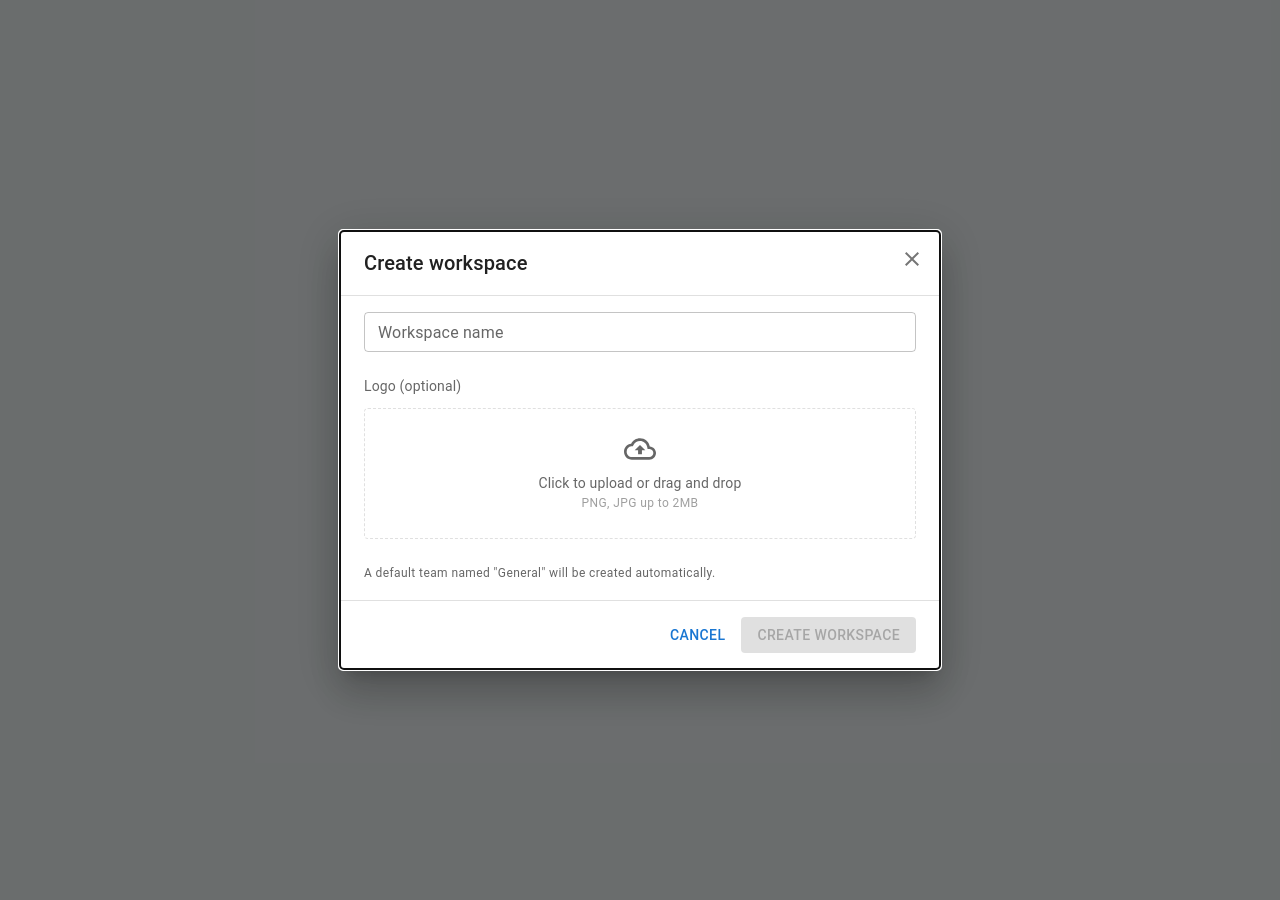
Test case: CreateWorkspaceDialog › disables submit until the name is at least 2 characters
The width and height of the screenshot is (1280, 900).
Expected: the button "Create workspace" is disabled, [741,617,916,653]
Type "A" into the field labelled "Workspace name" at (640, 332), box [364,312,916,352]
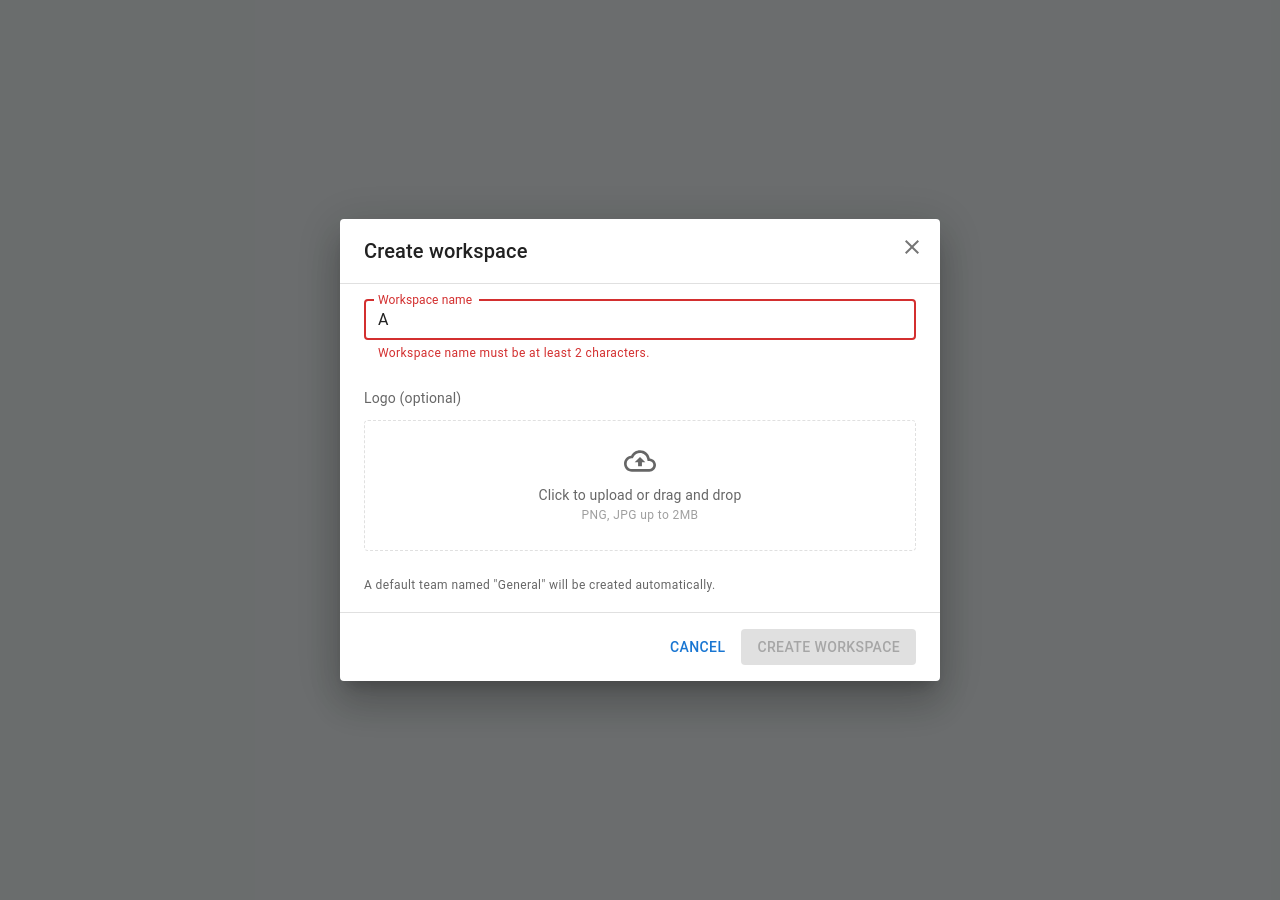
Expected: the button "Create workspace" is disabled, [741,629,916,665]
Type "cme" into the field labelled "Workspace name" at (640, 320), box [364,300,916,340]
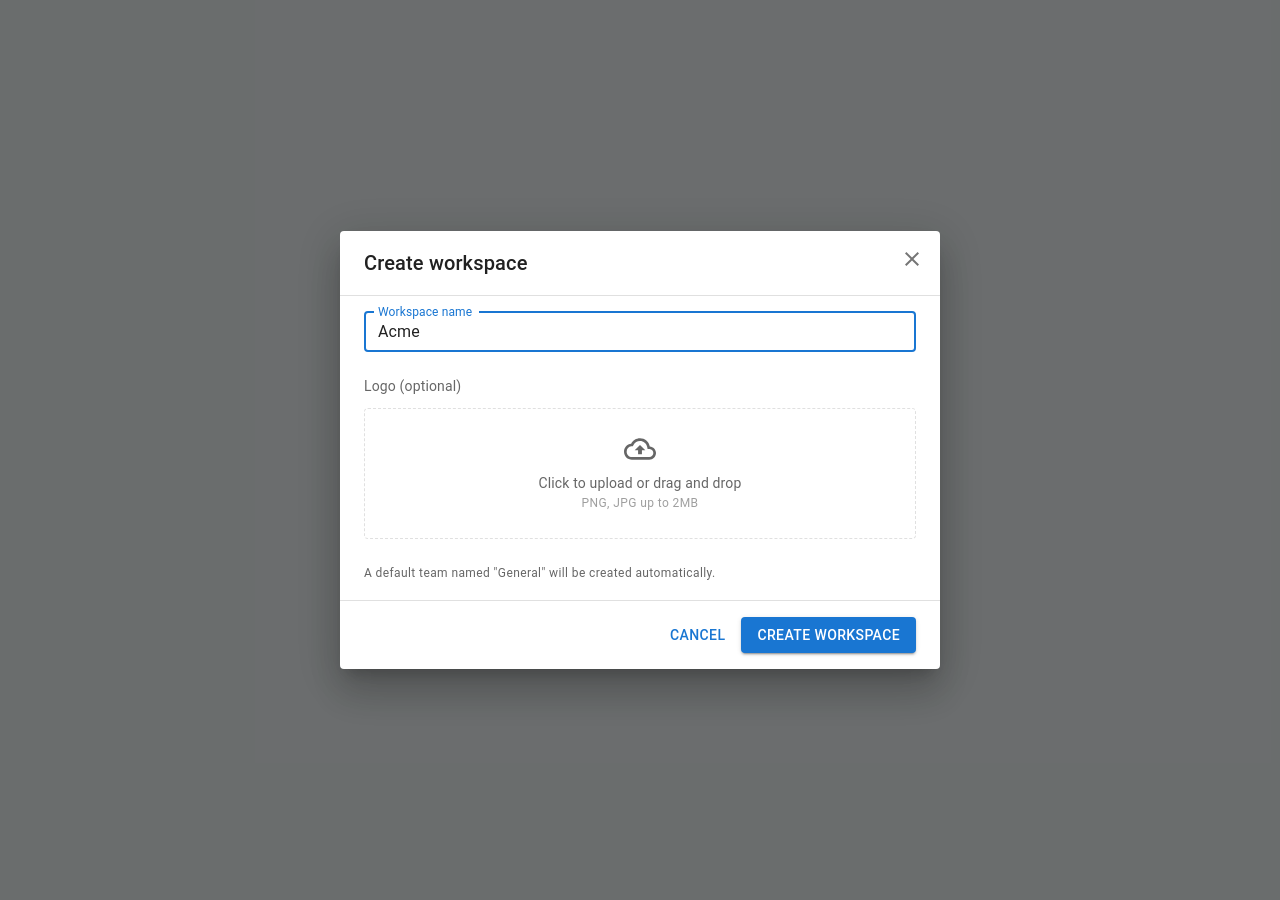
Expected: the button "Create workspace" is enabled, [741,617,916,653]
